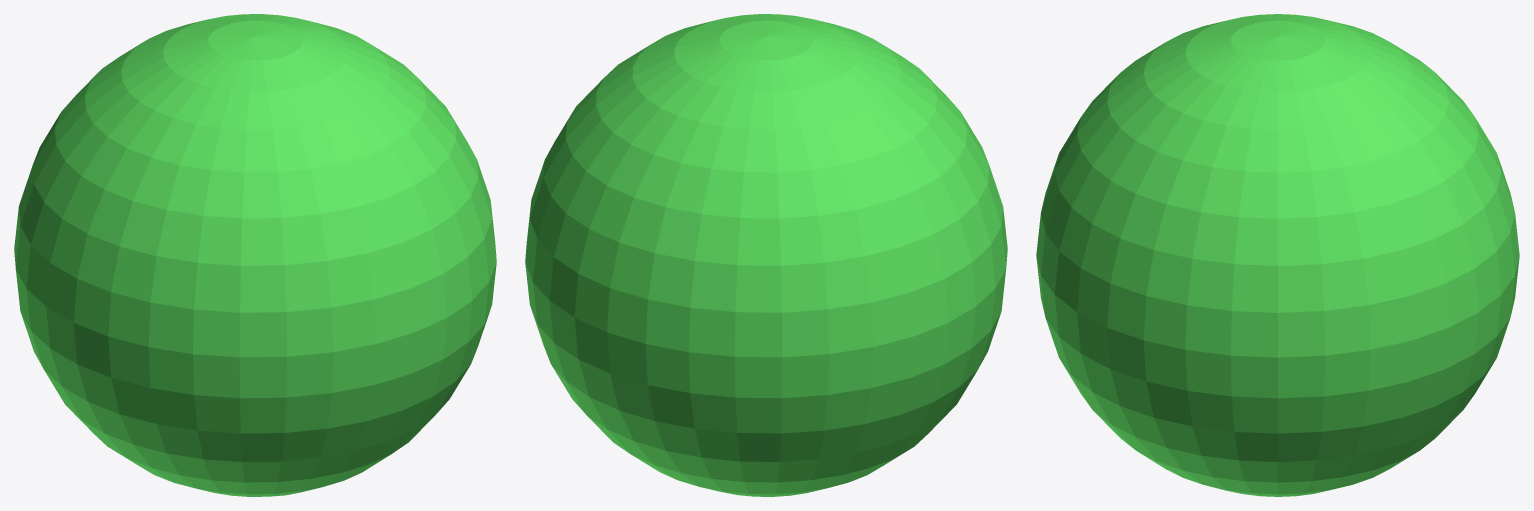
Rendered from green sircl.fbx.
The picture shows the model from 3 angles, left to right: view 1: azimuth 30°, elevation 25°; view 2: azimuth 150°, elevation 25°; view 3: azimuth 270°, elevation 25°; orthographic projection.
Parts seen in each view (by area): view 1: Sphere; view 2: Sphere; view 3: Sphere.
Part boxes in pixels (bbox=[...]): Sphere: bbox=[14, 14, 496, 496]; Sphere: bbox=[525, 14, 1007, 496]; Sphere: bbox=[1036, 14, 1519, 496].
Bounding box in the file's own units: 200 × 200 × 200.
